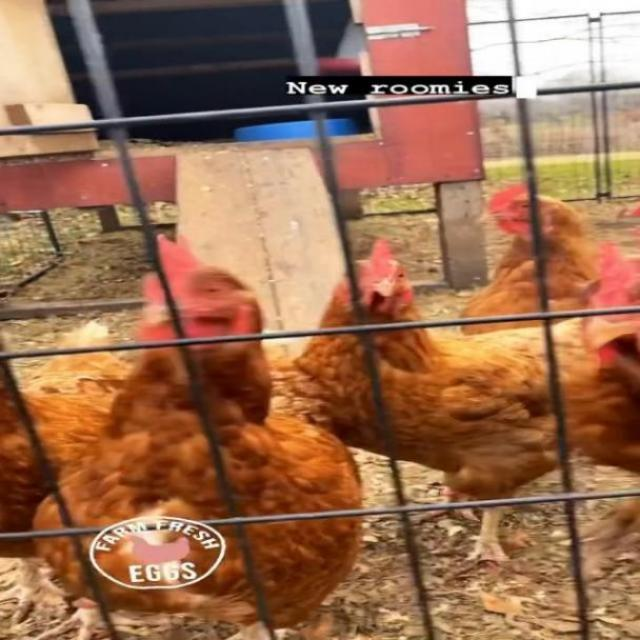Chicken: (35, 229, 368, 640), (292, 237, 594, 574), (0, 322, 143, 640), (454, 178, 615, 331), (570, 236, 640, 552)
